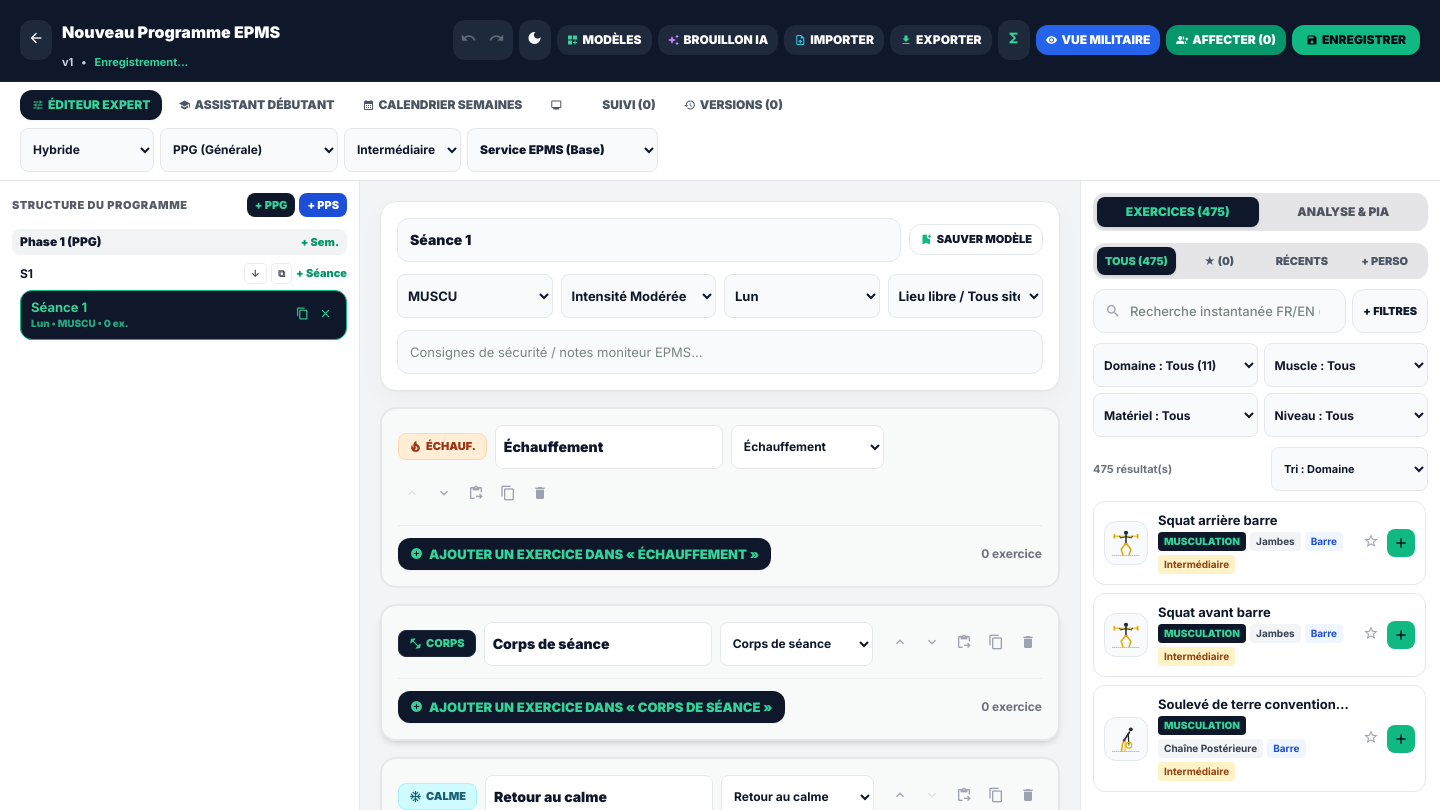
ProgramBuilderStudio — Flux complets éditeur EPMS › interprète une séance fractionnée VMA "3x10' @80% VMA r2'" et gère Undo/Redo après duplication de bloc
Later steps or results of the test are not shown.
Type "Fractionné" into the search field with placeholder "Recherche instantanée FR/EN (tolère les fautes)...".
click(1220, 311); type("Fractionné")  # box [1093,289,1346,333]
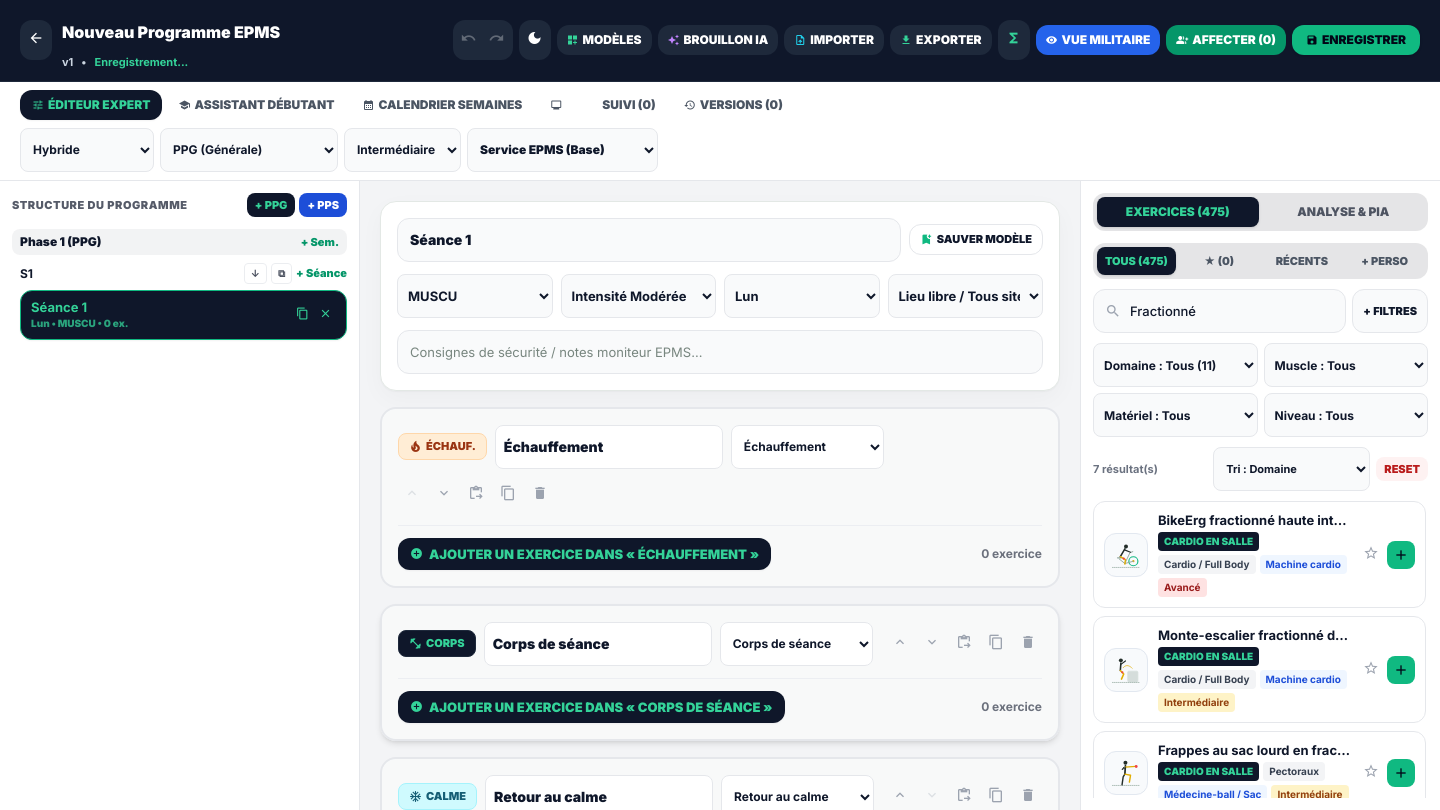
Click the text "BikeErg fractionné haute intensité PMA".
click(1254, 520)  # box [1158,512,1351,528]
(page scrolled)
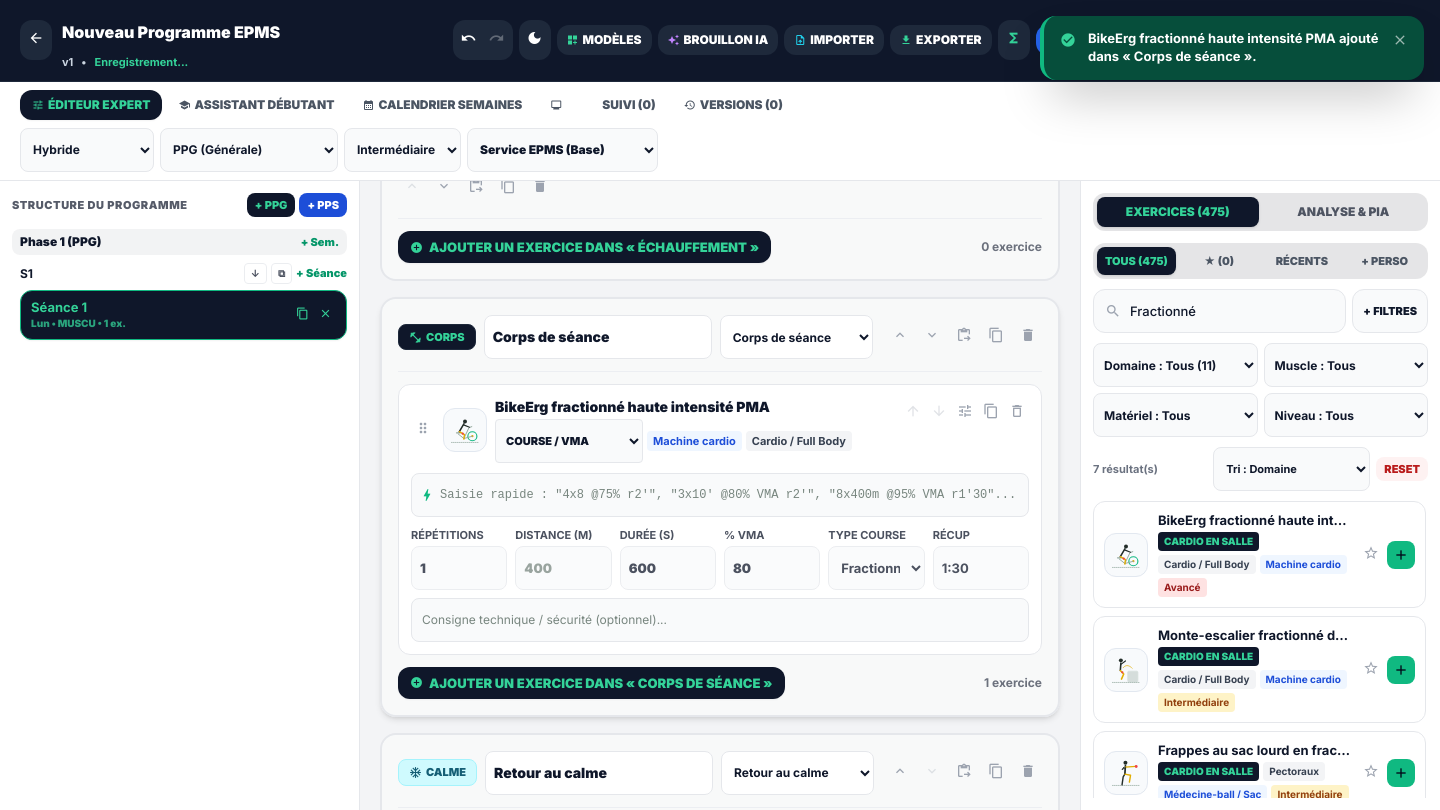
Replace the text in the field with placeholder "Saisie rapide" with "3x10' @80% VMA r2'" at [720, 495], box [411,473,1029,517]
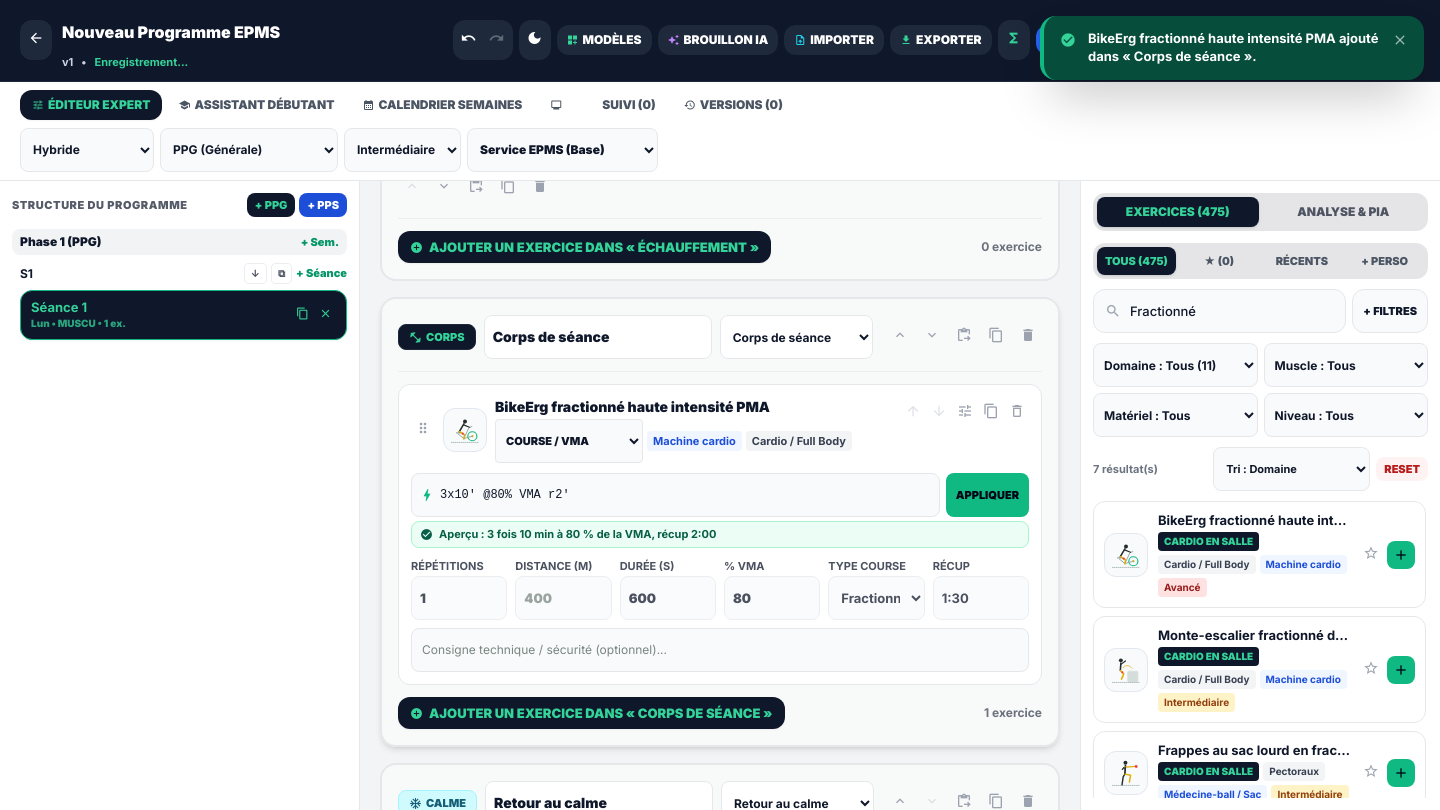
Expected: the text "Aperçu : 3 fois 10 min à 80 % de la VMA, récup 2:00" is shown, [439,526,716,542]
